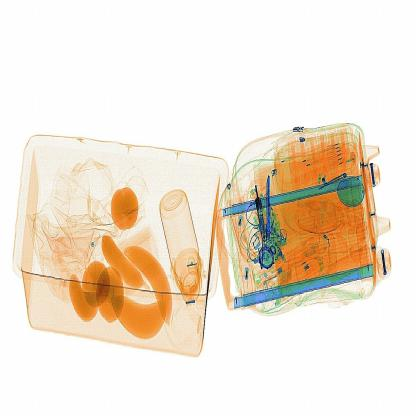pliers: (260, 170, 284, 245)
